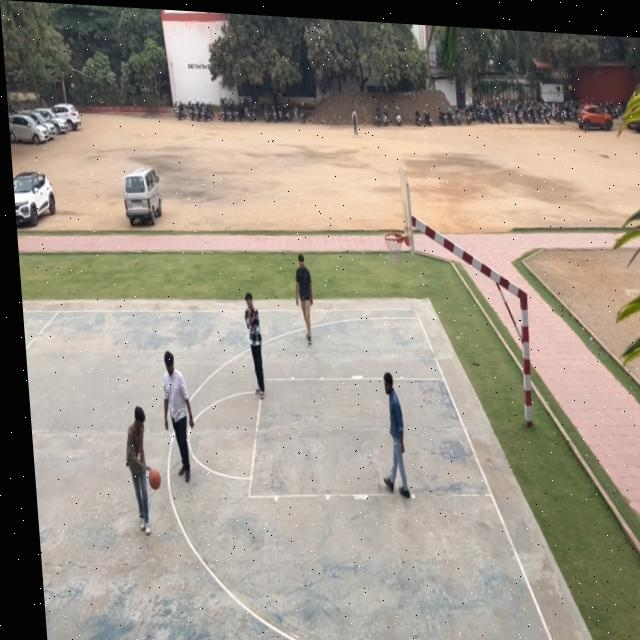basketball: (146, 464, 164, 495)
hoop: (383, 229, 405, 268)
